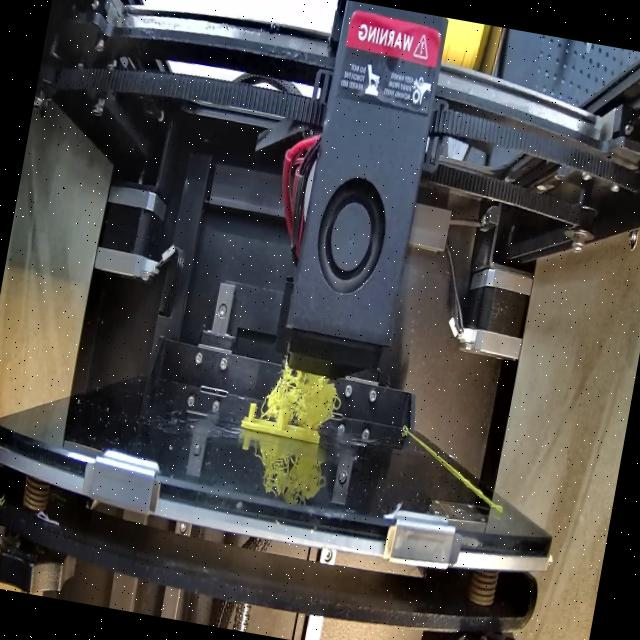spaghetti: (257, 354, 348, 430)
